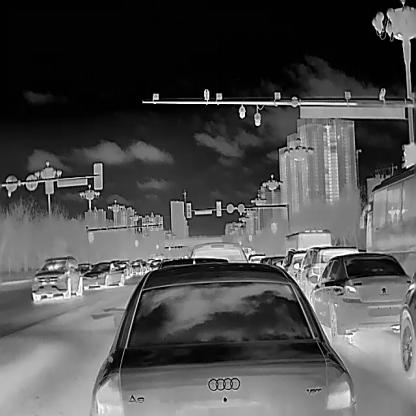bus: (358, 161, 416, 280), (283, 227, 331, 252)
car: (88, 259, 356, 415), (308, 250, 415, 341), (293, 244, 358, 303), (30, 255, 82, 301), (398, 274, 416, 378), (80, 261, 126, 290), (190, 240, 247, 262), (275, 243, 311, 276), (129, 259, 144, 275), (260, 256, 284, 265), (76, 262, 91, 276), (247, 252, 266, 262), (148, 259, 162, 271)
